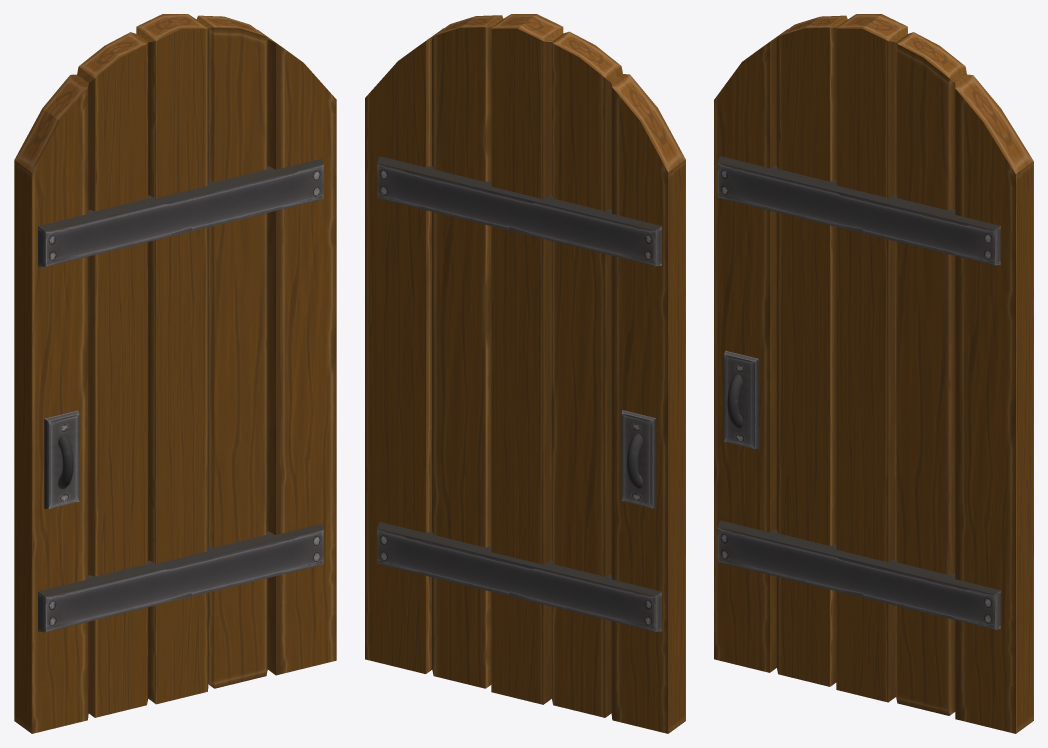
Rendered from SM_Door_D.fbx.
3 views of the same model, side by side, from view 1: azimuth 30°, elevation 25°; view 2: azimuth 150°, elevation 25°; view 3: azimuth 330°, elevation 25° (orthographic).
Visible parts, largest first — view 1: SM_Door_D; view 2: SM_Door_D; view 3: SM_Door_D.
Part boxes in pixels (x1=…): SM_Door_D: x1=14, y1=14, x2=336, y2=733; SM_Door_D: x1=365, y1=14, x2=685, y2=733; SM_Door_D: x1=714, y1=14, x2=1033, y2=733.
Size of the model in its own units: 1.34 by 2.83 by 0.3102.
